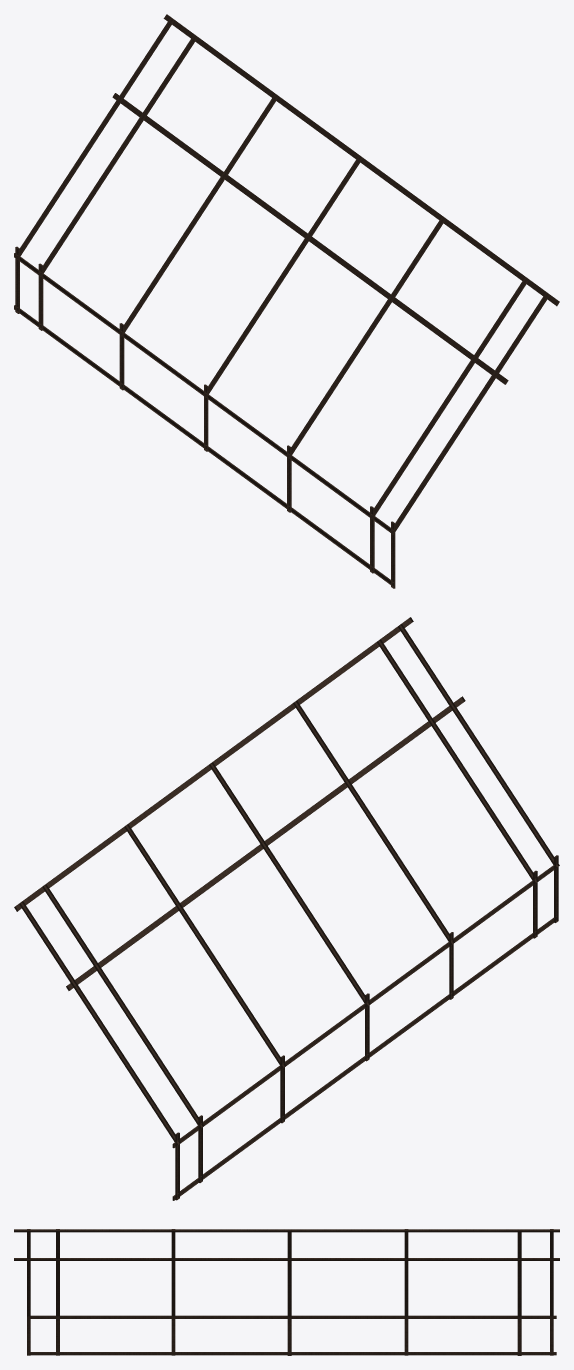
Rendered from Extra wall 3.fbx.
3 renders of one model, top to bottom at view 1: azimuth 30°, elevation 25°; view 2: azimuth 150°, elevation 25°; view 3: azimuth 270°, elevation 25°, orthographic. The views are drawn at different scales.
Parts seen in each view (by area): view 1: Extra detail wood.002; view 2: Extra detail wood.002; view 3: Extra detail wood.002.
Boxes of the visible parts, x1=… form: Extra detail wood.002: x1=14, y1=14, x2=559, y2=588; Extra detail wood.002: x1=14, y1=617, x2=559, y2=1200; Extra detail wood.002: x1=14, y1=1229, x2=559, y2=1355.
Size of the model in its own units: 298 by 461 by 1275.
1 material, 1 textured.
